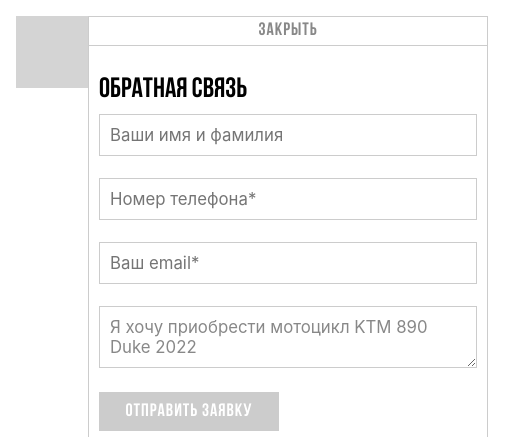
Test: Order component › Input User Name validation 2 symbols
Type "A" into the field with test id "userName".
click(288, 135); type("A")  # box top-left (99, 114), bottom-right (477, 156)
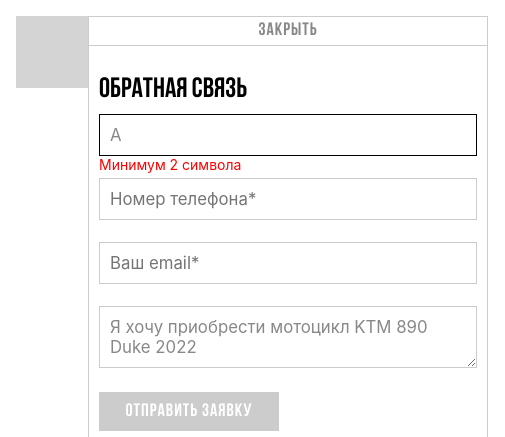
Expected: the text "Минимум 2 символа" is shown, top-left (99, 156), bottom-right (241, 173)
